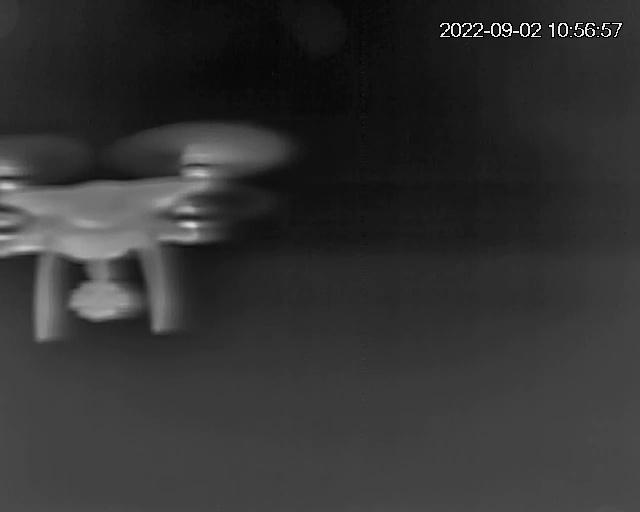DJI-Phantom: (0, 140, 259, 338)
